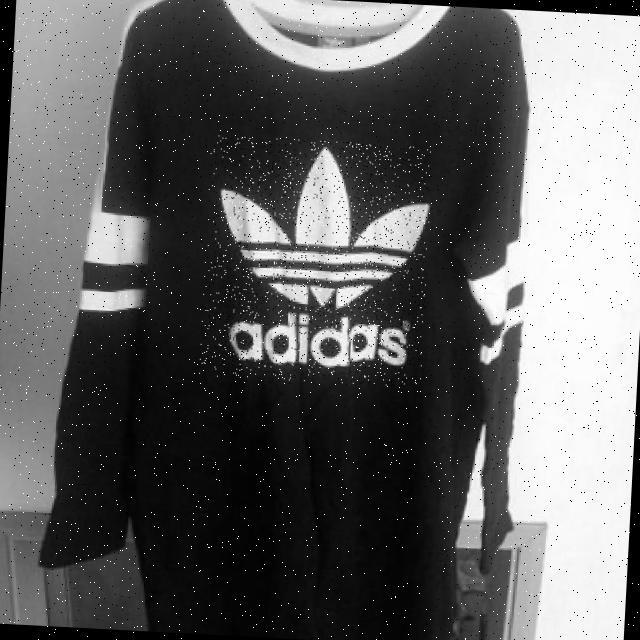Adidas: (199, 135, 433, 387)
